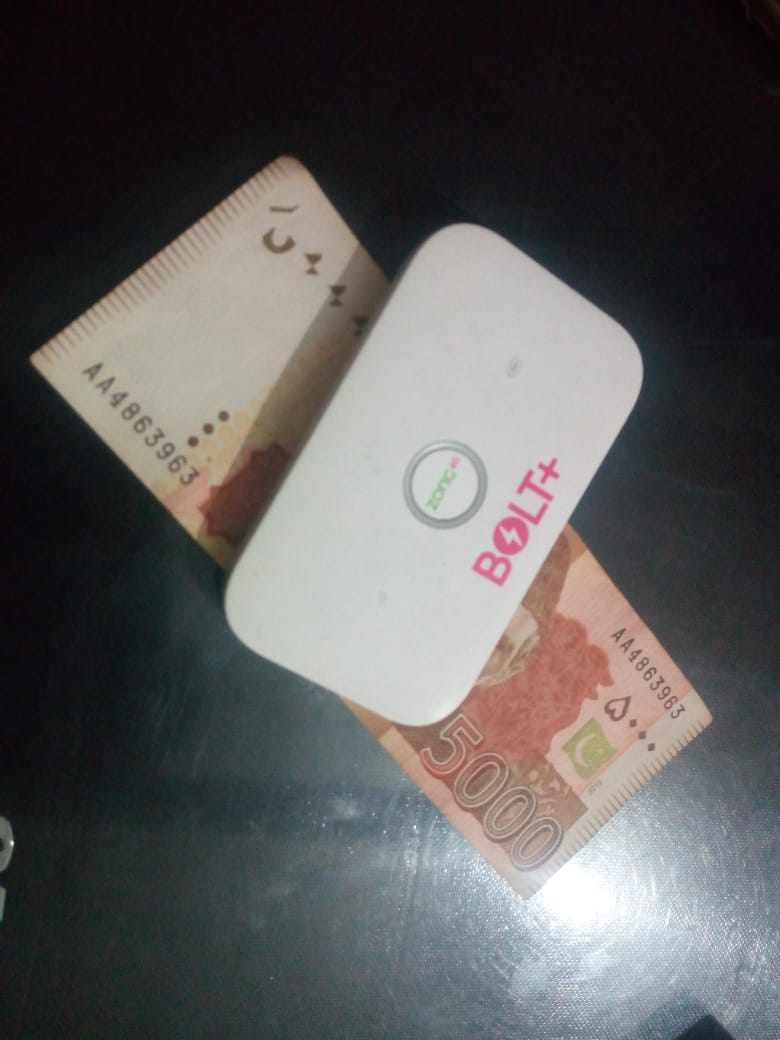5000 rupee: (49, 148, 700, 874)
